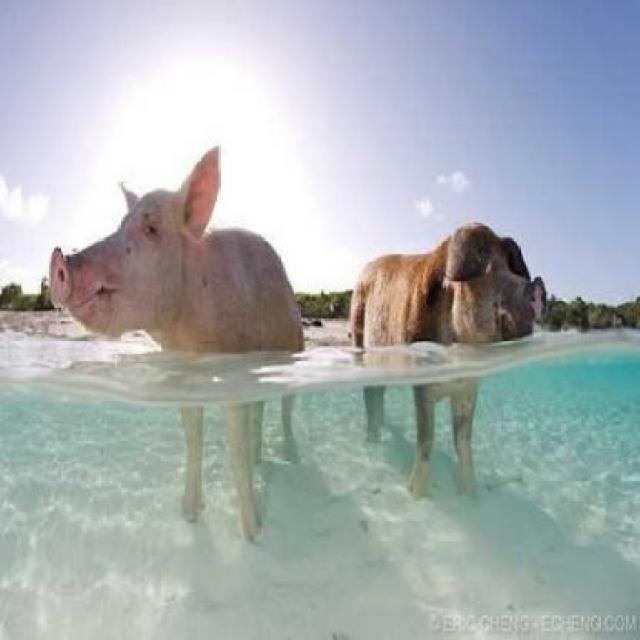pig: (49, 143, 326, 530), (345, 189, 569, 485)
